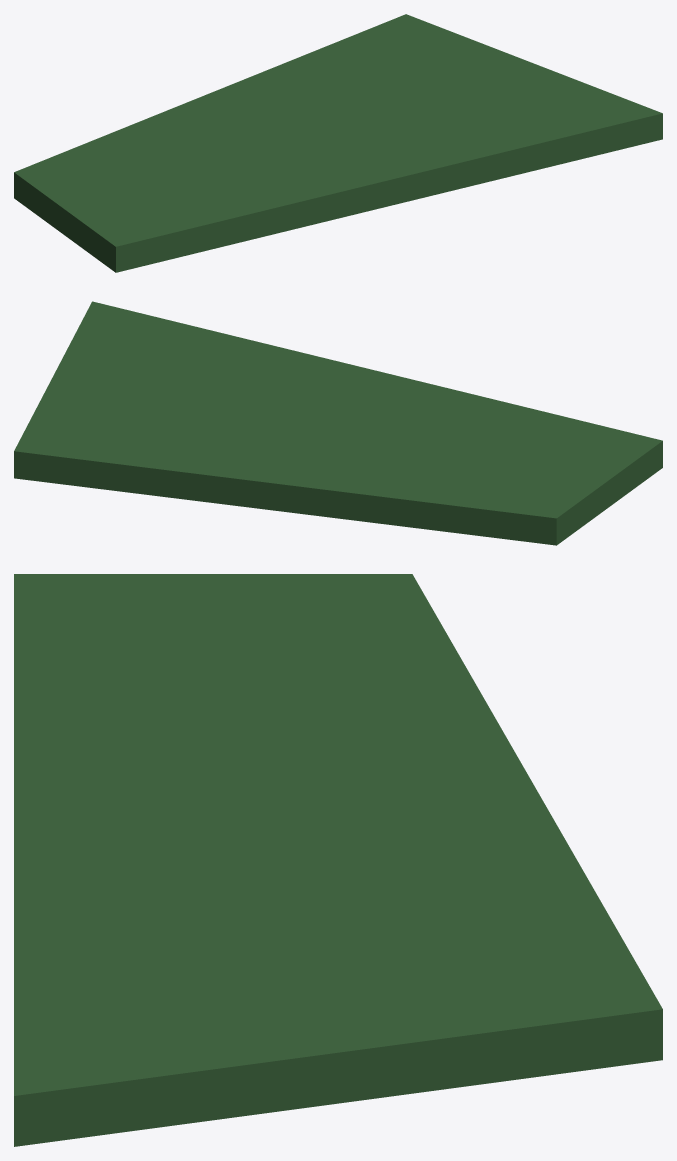
Rendered from x_proval_00_46_1_rmstrd.fbx.
3 renders of one model, top to bottom at view 1: azimuth 30°, elevation 25°; view 2: azimuth 150°, elevation 25°; view 3: azimuth 270°, elevation 25°, orthographic. The views are drawn at different scales.
Visible parts, largest first — view 1: x_proval_00_46_1_rmstrd1; view 2: x_proval_00_46_1_rmstrd1; view 3: x_proval_00_46_1_rmstrd1.
Boxes of the visible parts, <box> form: x_proval_00_46_1_rmstrd1: <box>14,14,662,272</box>; x_proval_00_46_1_rmstrd1: <box>14,301,662,545</box>; x_proval_00_46_1_rmstrd1: <box>14,574,662,1146</box>.
Bounding box in the file's own units: 4.4 × 0.2 × 2.31.
